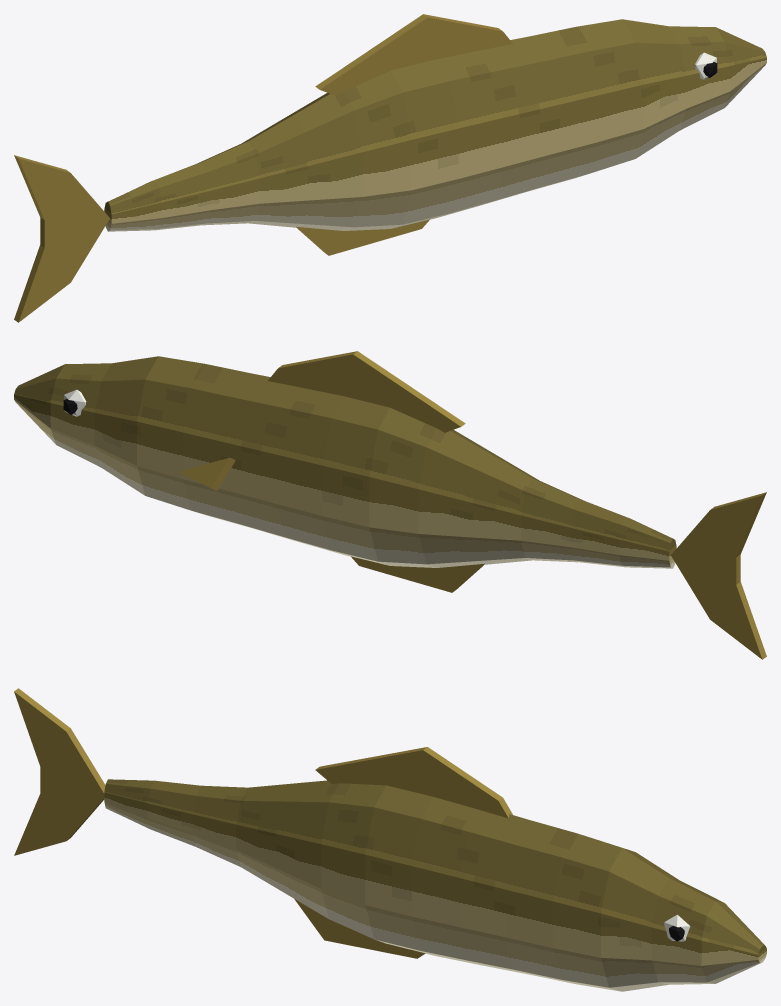
Rendered from mangrove_marjorie.glb.
The picture shows the model from 3 angles, top to bottom: view 1: azimuth 30°, elevation 25°; view 2: azimuth 150°, elevation 25°; view 3: azimuth 330°, elevation 25°; orthographic projection.
Parts seen in each view (by area): view 1: fish_mangrove_marjorie; view 2: fish_mangrove_marjorie; view 3: fish_mangrove_marjorie.
Boxes of the visible parts, x1,y1,x2,y2 form: fish_mangrove_marjorie: (14,14,766,322); fish_mangrove_marjorie: (14,351,766,659); fish_mangrove_marjorie: (14,688,766,991).
Size of the model in its own units: 1.14 by 0.3129 by 0.1501.
Materials: 4 (1 with a texture image).
